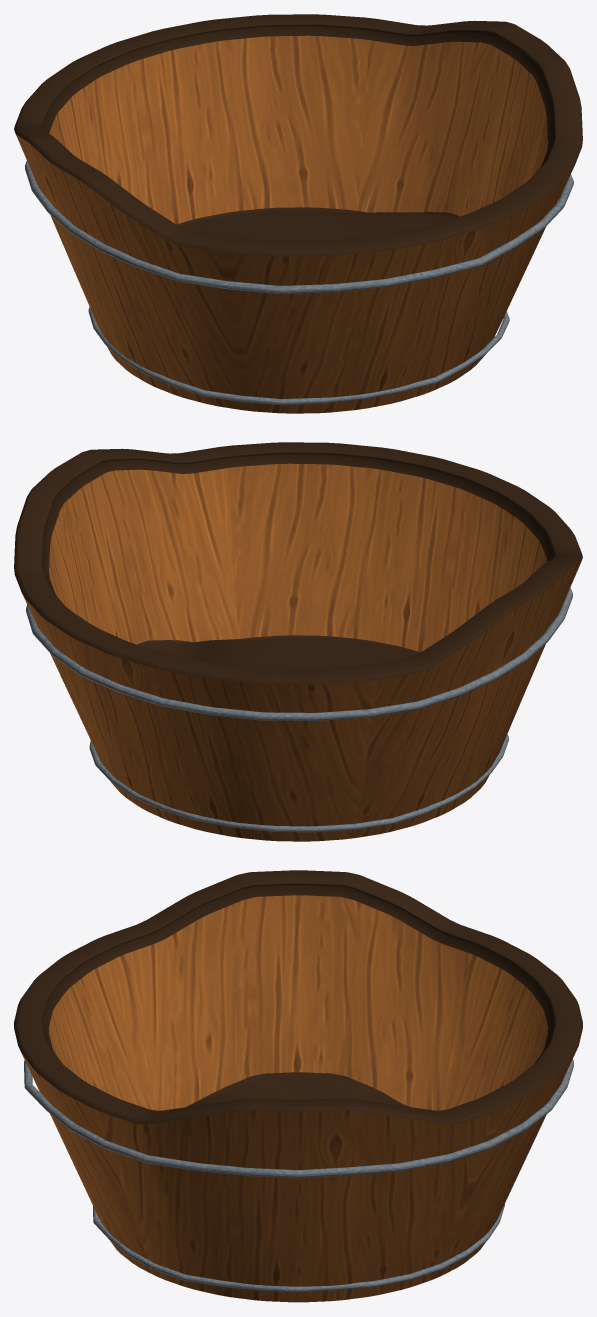
File: BathTub.fbx
The picture shows the model from 3 angles, top to bottom: view 1: azimuth 30°, elevation 25°; view 2: azimuth 150°, elevation 25°; view 3: azimuth 270°, elevation 25°; orthographic projection.
Visible parts, largest first — view 1: Cylinder; view 2: Cylinder; view 3: Cylinder.
Part boxes in pixels (box(x1,y1,x2,y2)): Cylinder: box(14, 14, 582, 413); Cylinder: box(14, 442, 582, 841); Cylinder: box(14, 870, 582, 1302).
Bounding box in the file's own units: 404 × 181 × 404.
